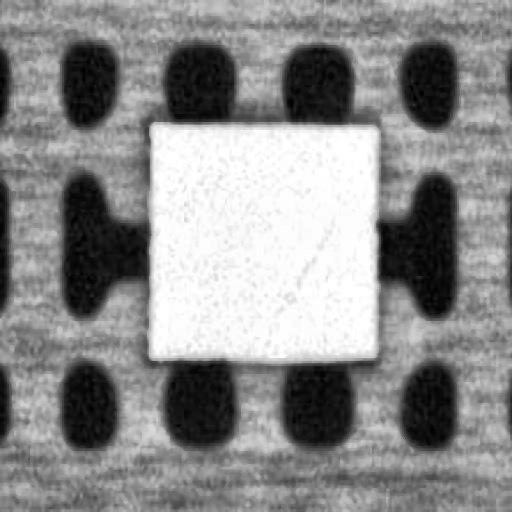DIE_CRACK: (268, 204, 338, 318)
